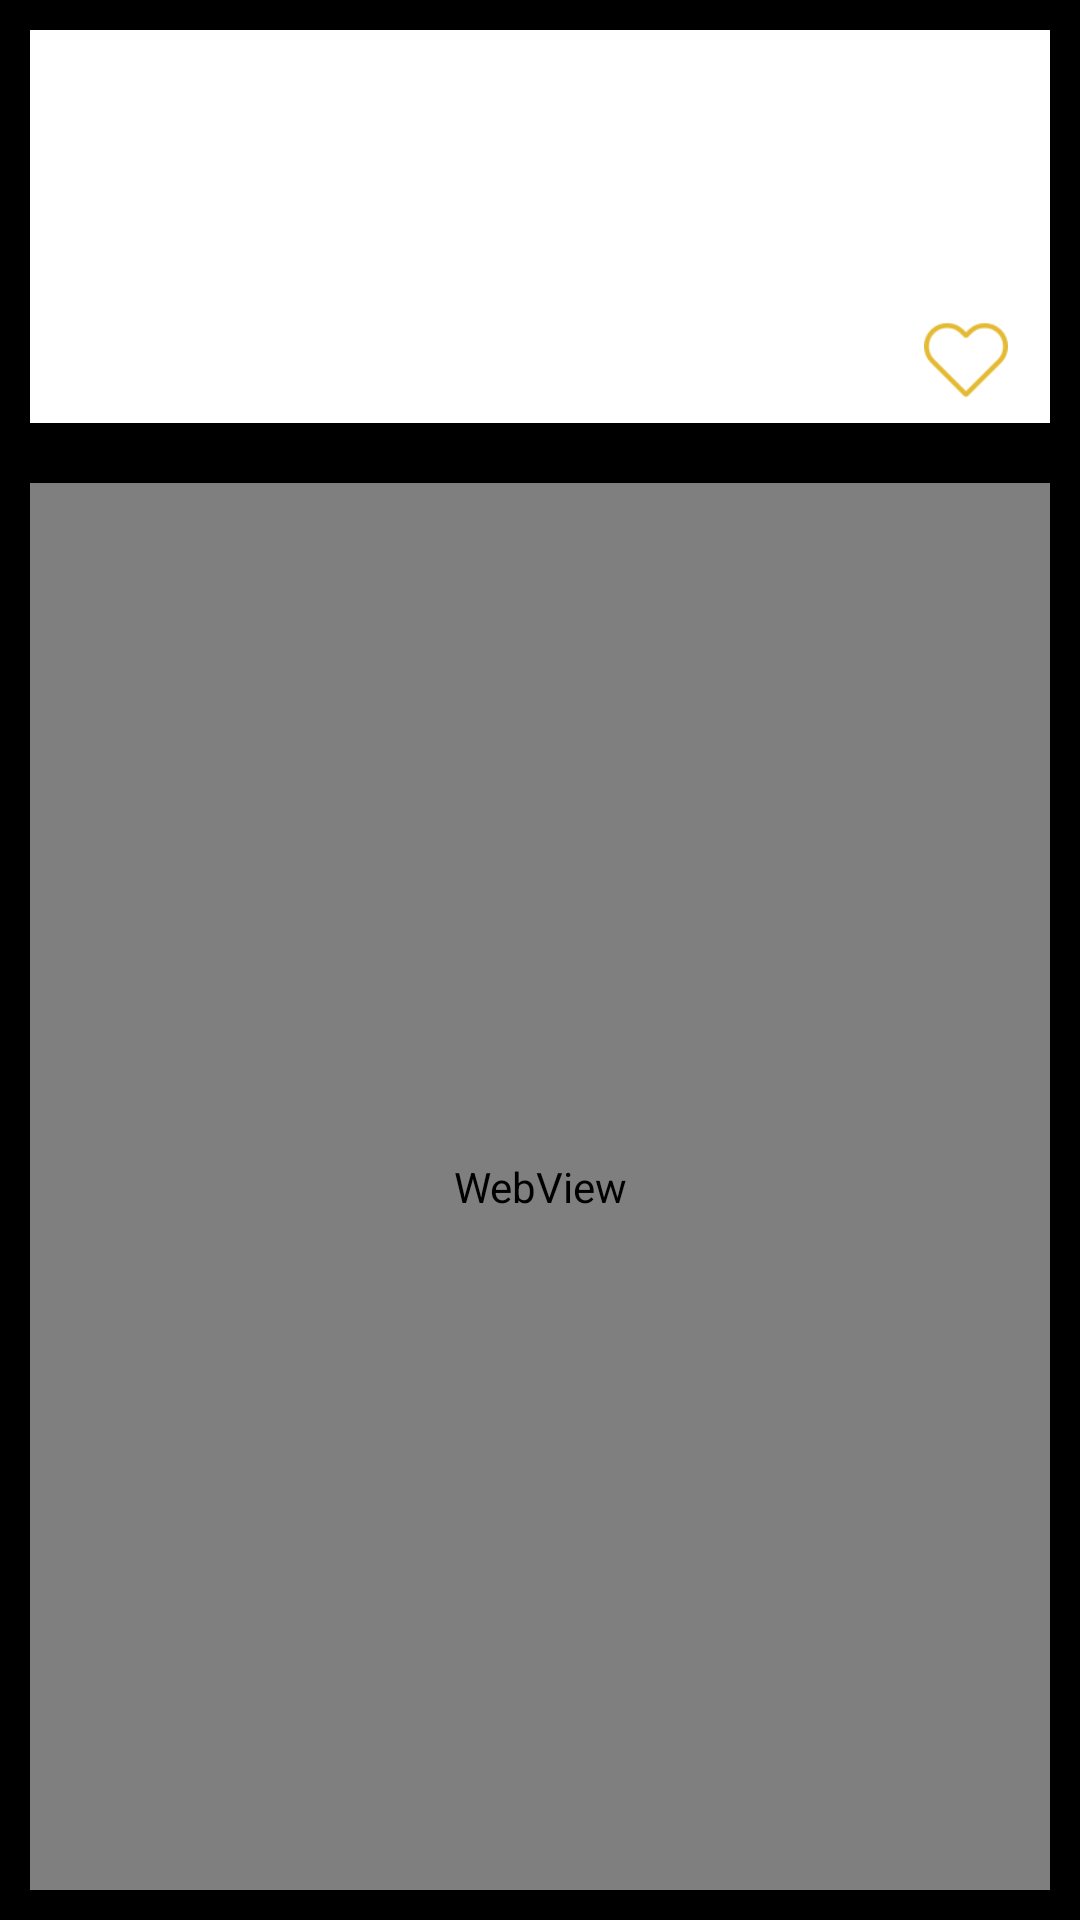

Icons on this 1080 × 1920 Android screen, each with the point to tap as point (x, y):
heart: point (966, 360)
